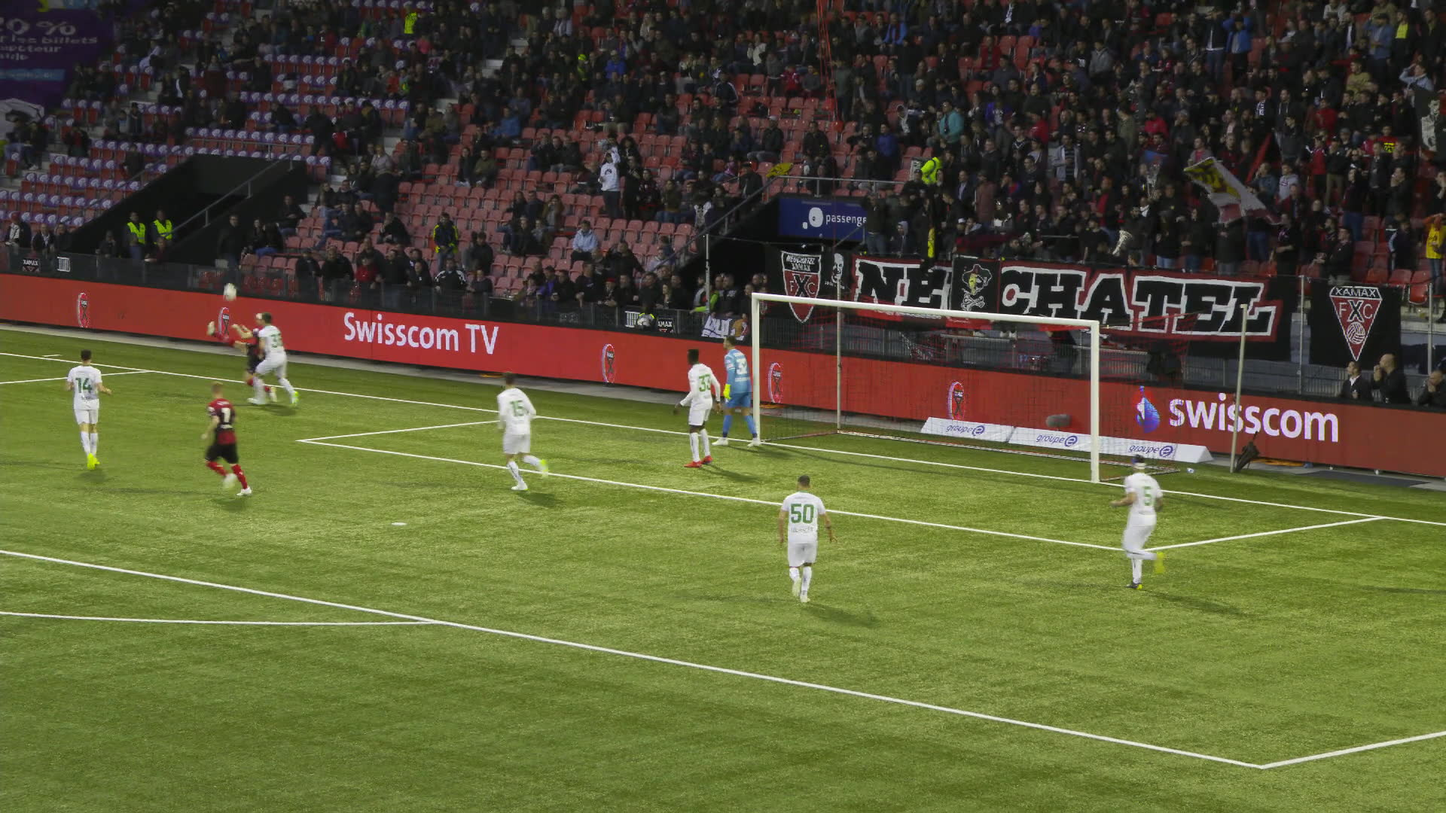ball: (223, 285, 236, 298)
player: (1116, 451, 1171, 590), (778, 472, 833, 607), (201, 379, 264, 495), (498, 370, 548, 490), (676, 349, 725, 468), (65, 351, 113, 468), (217, 322, 283, 403), (713, 334, 758, 448), (252, 314, 302, 407)
